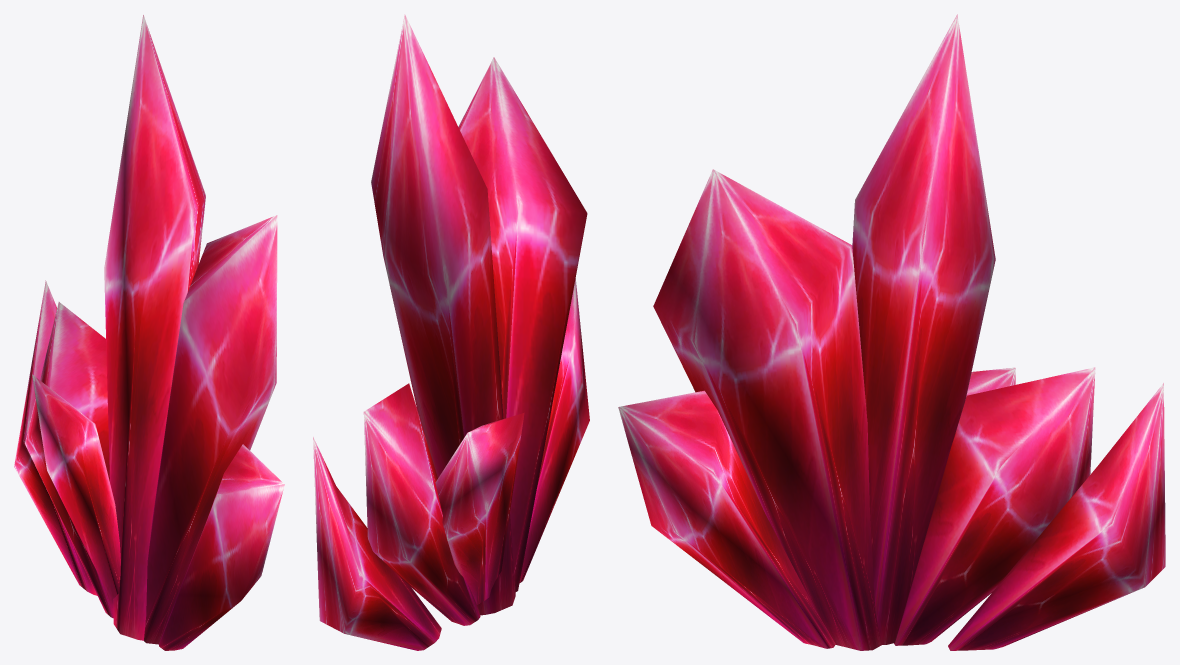
Rendered from ungorocrystal_red01.obj.
The picture shows the model from 3 angles, left to right: view 1: azimuth 30°, elevation 25°; view 2: azimuth 150°, elevation 25°; view 3: azimuth 270°, elevation 25°; orthographic projection. The views are drawn at different scales.
Parts seen in each view (by area): view 1: ungorocrystal_red01; view 2: ungorocrystal_red01; view 3: ungorocrystal_red01.
Boxes of the visible parts, bbox=[...] form: ungorocrystal_red01: bbox=[14, 15, 284, 650]; ungorocrystal_red01: bbox=[313, 14, 589, 650]; ungorocrystal_red01: bbox=[618, 14, 1165, 650].
Size of the model in its own units: 0.5486 by 1.99 by 1.53.
Materials: 1 (1 with a texture image).
